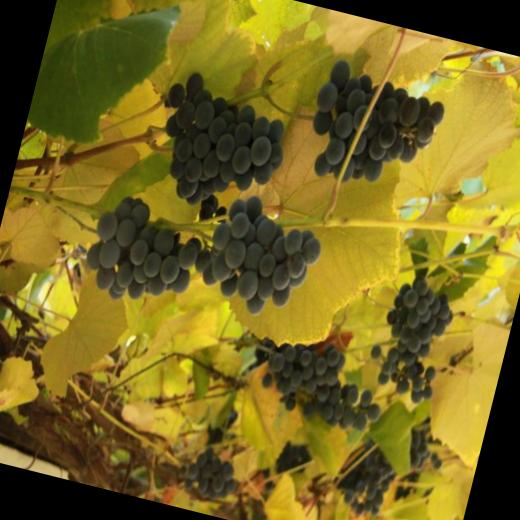Orange: (74, 161, 329, 341), (144, 65, 298, 223), (296, 58, 454, 204), (240, 330, 392, 440), (360, 265, 458, 406), (332, 438, 399, 520), (173, 440, 247, 505), (395, 426, 449, 506), (272, 442, 316, 484)
